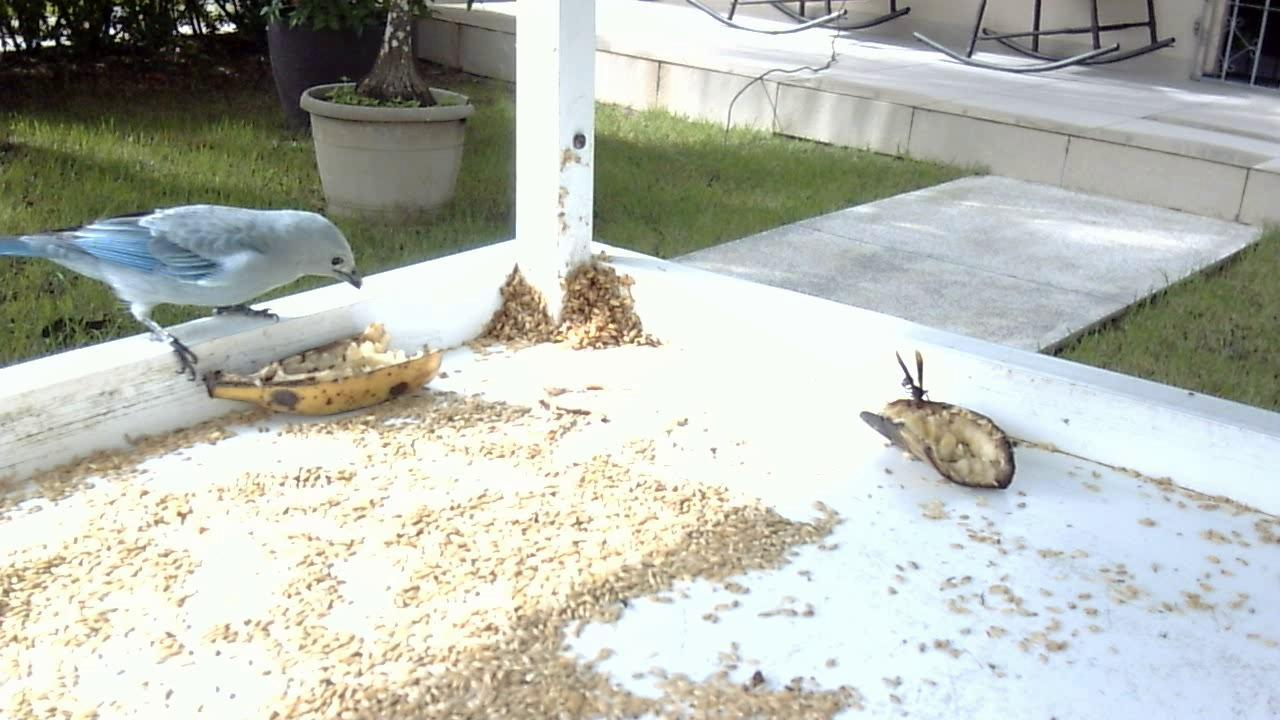sanhaco_da_amazonia: (9, 192, 357, 387)
